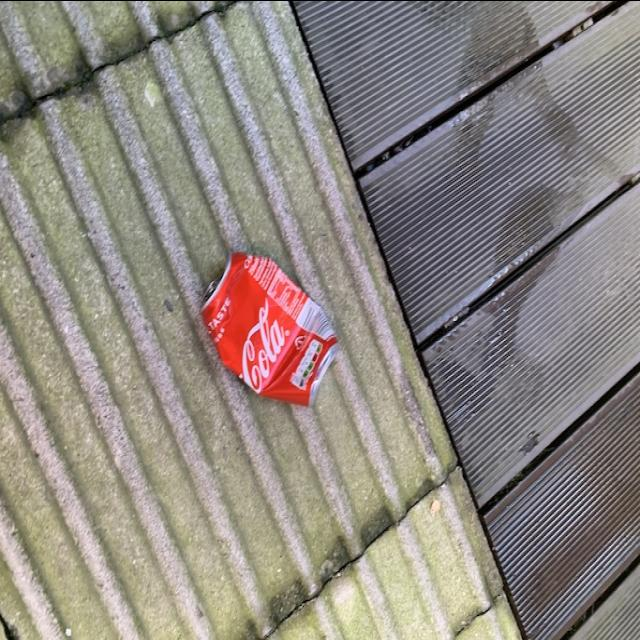litter: (197, 246, 342, 414)
